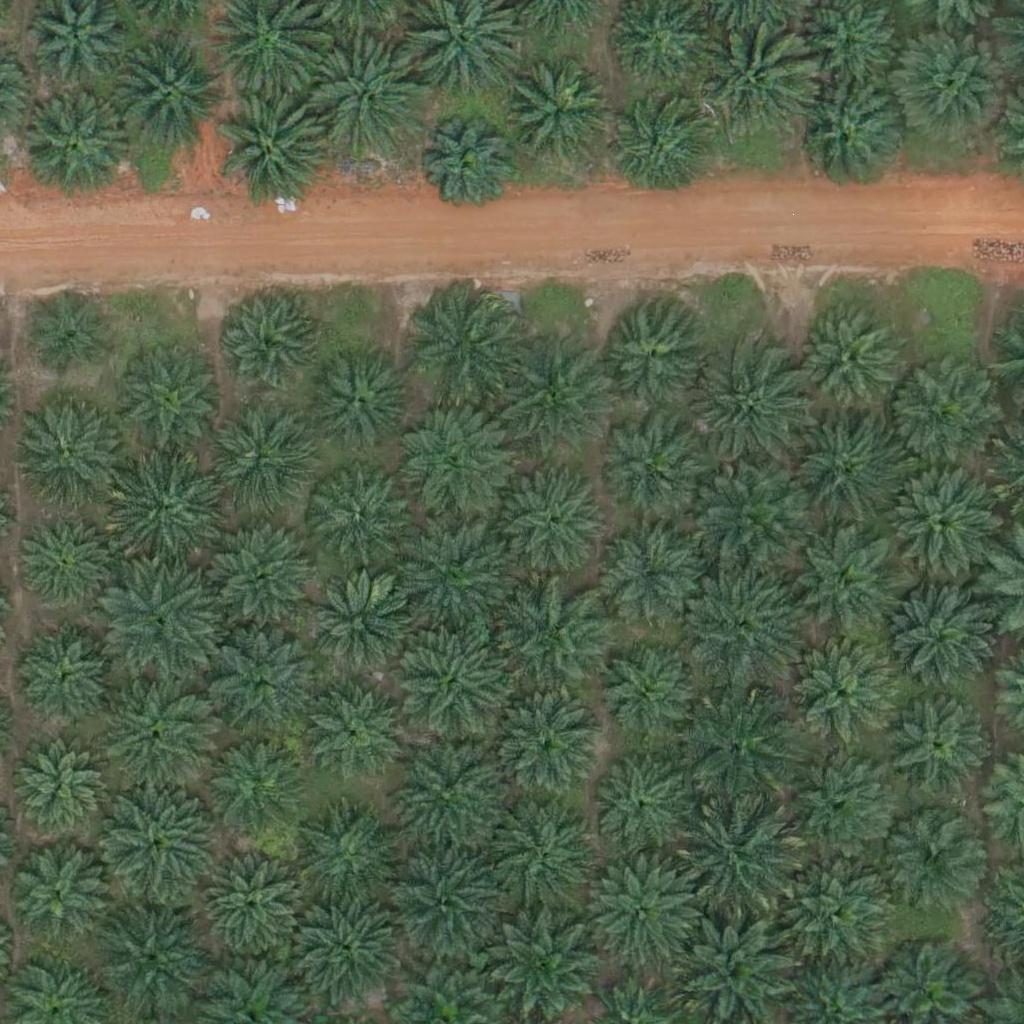Kelapa_Sawit: (793, 527, 906, 641), (486, 688, 599, 802), (309, 44, 422, 158), (22, 85, 135, 199), (109, 37, 222, 151), (886, 357, 999, 470), (887, 461, 1000, 574), (880, 693, 993, 806), (875, 801, 988, 914), (773, 859, 886, 972), (784, 416, 897, 529), (698, 462, 811, 575), (678, 566, 791, 679), (596, 409, 709, 522), (489, 345, 602, 458), (490, 466, 603, 579), (483, 806, 596, 919), (403, 294, 516, 407), (396, 411, 509, 524), (400, 626, 513, 739), (393, 728, 506, 841), (288, 810, 401, 923), (103, 571, 216, 684), (98, 678, 211, 791), (103, 782, 216, 895), (91, 908, 204, 1021), (4, 398, 117, 511), (791, 635, 903, 749), (594, 299, 706, 413), (391, 837, 503, 951), (109, 343, 221, 457), (881, 586, 993, 699), (784, 747, 896, 860), (692, 350, 804, 463), (685, 690, 797, 803), (686, 803, 798, 916), (587, 856, 699, 969), (505, 578, 617, 691), (398, 522, 510, 635), (309, 573, 421, 686), (294, 886, 406, 999), (208, 622, 320, 735), (108, 458, 220, 571), (897, 32, 1009, 145), (791, 78, 903, 191), (696, 26, 808, 139), (503, 62, 615, 175), (218, 95, 330, 208), (794, 310, 894, 411), (589, 748, 689, 849), (602, 532, 702, 633), (312, 346, 412, 447), (311, 475, 411, 576), (304, 684, 404, 785), (203, 736, 303, 837), (213, 523, 313, 624), (9, 838, 109, 939), (9, 733, 109, 834), (18, 628, 118, 729), (608, 100, 708, 201), (596, 647, 696, 747), (203, 855, 303, 955), (206, 410, 306, 510), (217, 293, 317, 393), (26, 289, 114, 377), (19, 517, 107, 605), (421, 124, 508, 212)
